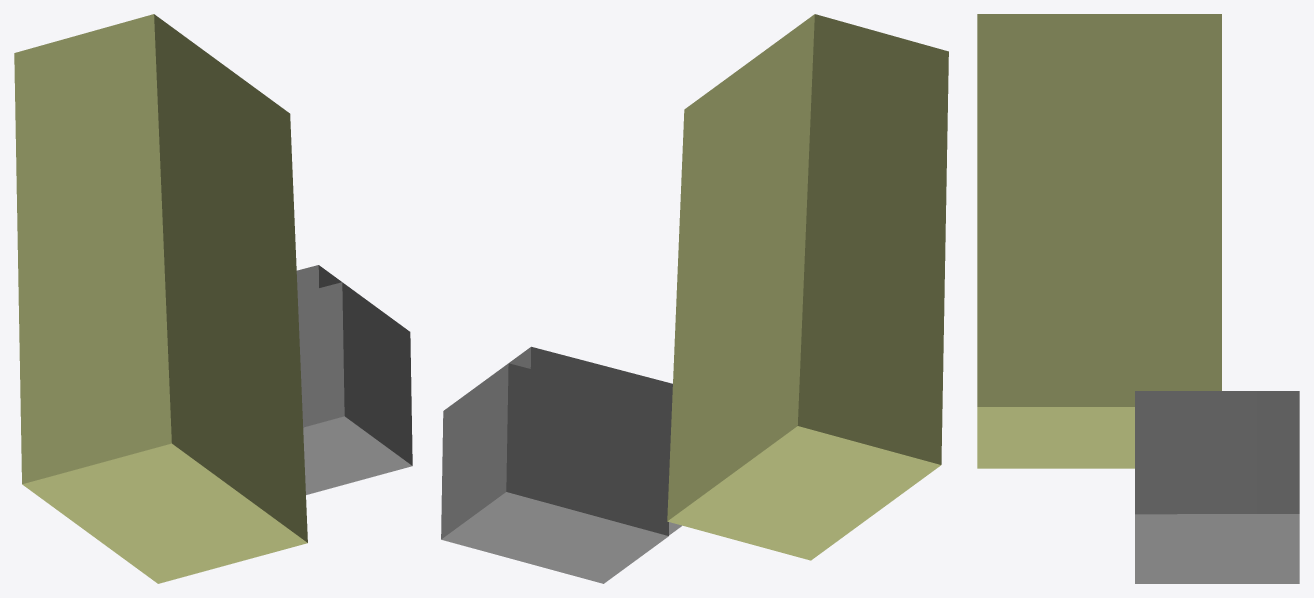
The picture shows the model from 3 angles, left to right: view 1: azimuth 30°, elevation 25°; view 2: azimuth 150°, elevation 25°; view 3: azimuth 270°, elevation 25°; orthographic projection. The views are drawn at different scales.
Parts seen in each view (by area): view 1: 0_1_2_0_3_3_1_1_3; view 2: 0_1_2_0_3_3_1_1_3; view 3: 0_1_2_0_3_3_1_1_3.
Boxes of the visible parts, x1,y1,x2,y2 form: 0_1_2_0_3_3_1_1_3: (14, 14, 412, 583); 0_1_2_0_3_3_1_1_3: (441, 14, 948, 583); 0_1_2_0_3_3_1_1_3: (977, 14, 1299, 583).
Bounding box in the file's own units: 8.91 × 11.5 × 7.91.
